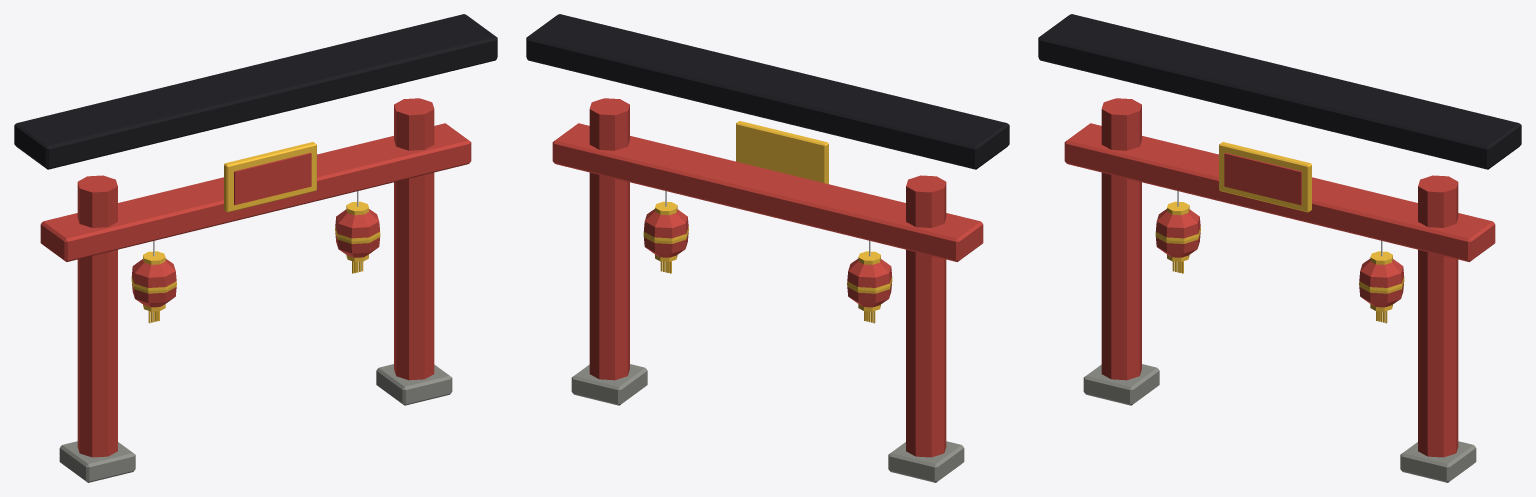
The model's file is LunarGate.fbx.
The picture shows the model from 3 angles, left to right: view 1: azimuth 30°, elevation 25°; view 2: azimuth 150°, elevation 25°; view 3: azimuth 330°, elevation 25°; orthographic projection.
Parts seen in each view (by area): view 1: LunarGate; view 2: LunarGate; view 3: LunarGate.
Part boxes in pixels (bbox=[...]): LunarGate: bbox=[14, 14, 497, 482]; LunarGate: bbox=[526, 14, 1009, 482]; LunarGate: bbox=[1038, 14, 1521, 482].
Bounding box in the file's own units: 20 × 14.76 × 2.63.
1 material, 1 textured.
